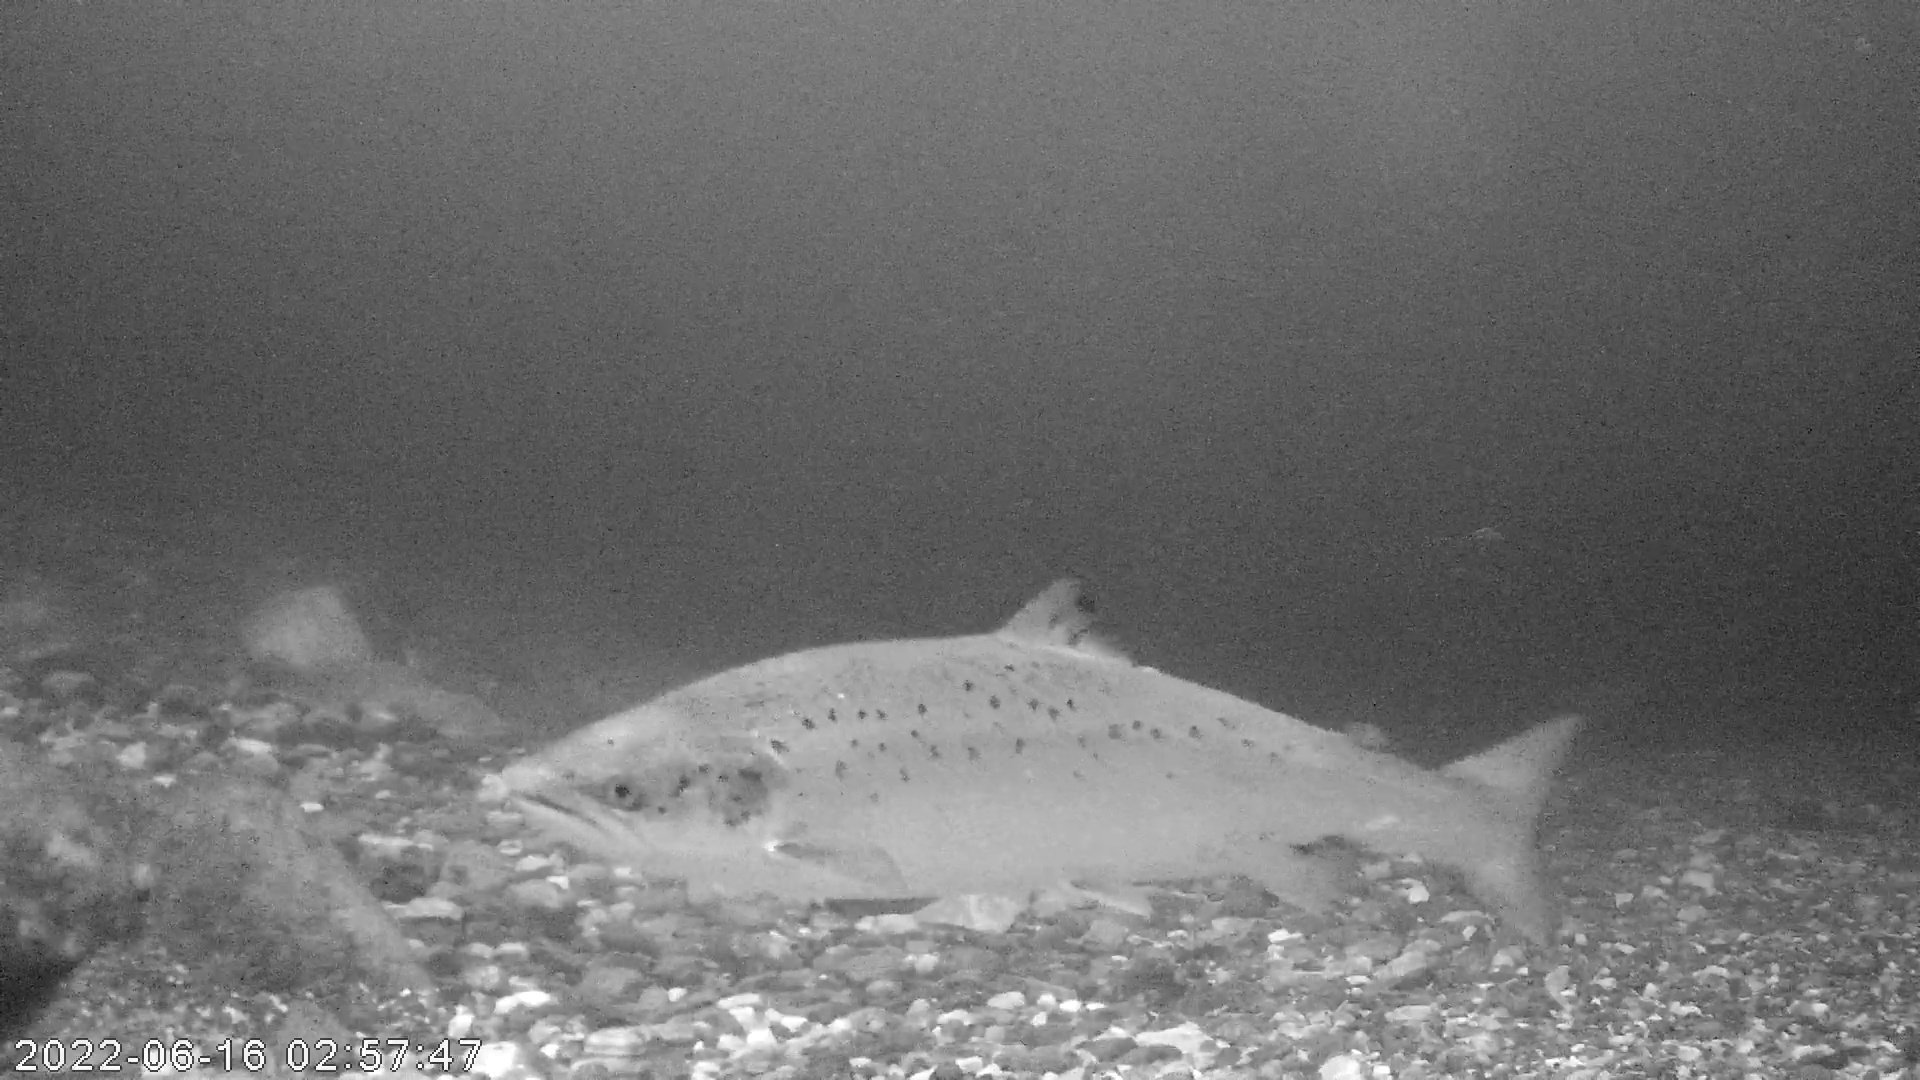salmon: (497, 567, 1589, 953)
